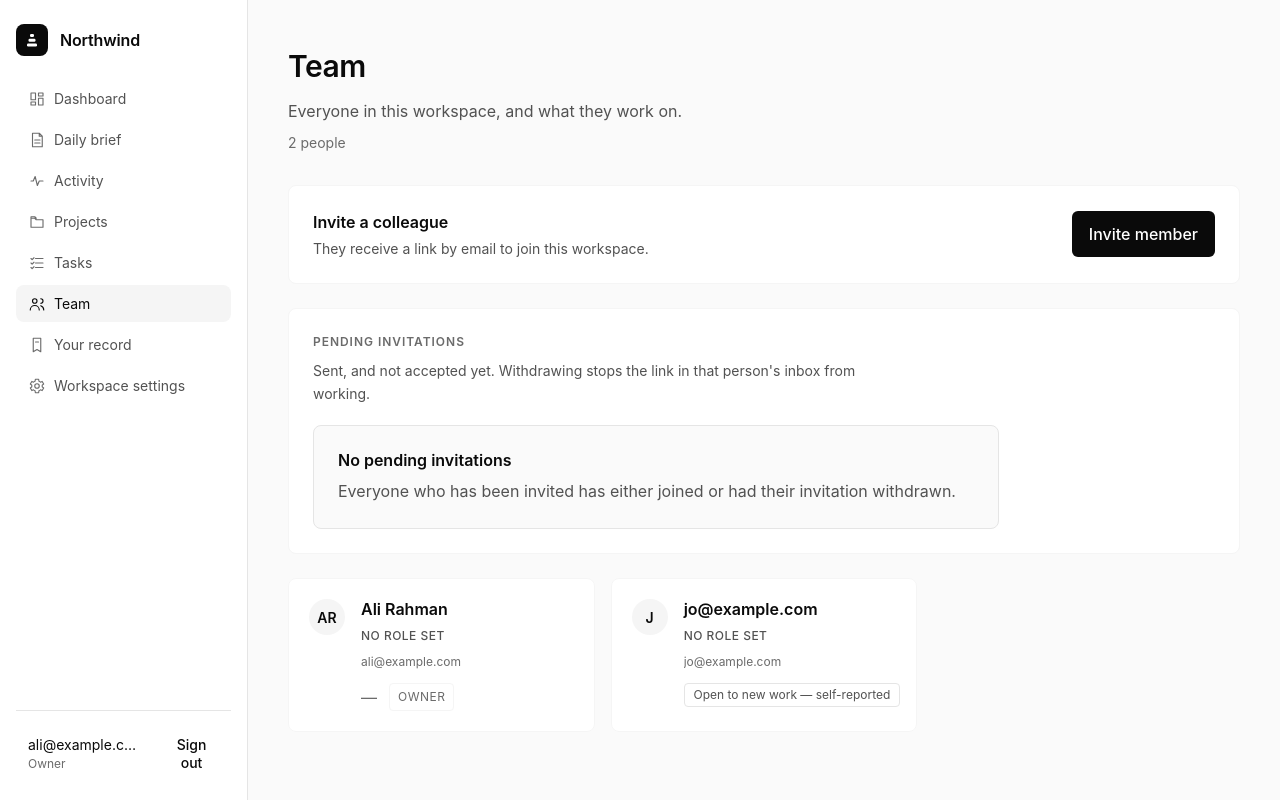
Test case: inviting a colleague › offers the invite panel to an owner and sends to the address given
Expected: the heading "Ali Rahman" is shown, [361,600,448,620]
Click the button "Invite member".
click(1143, 234)  # box [1072,211,1215,257]
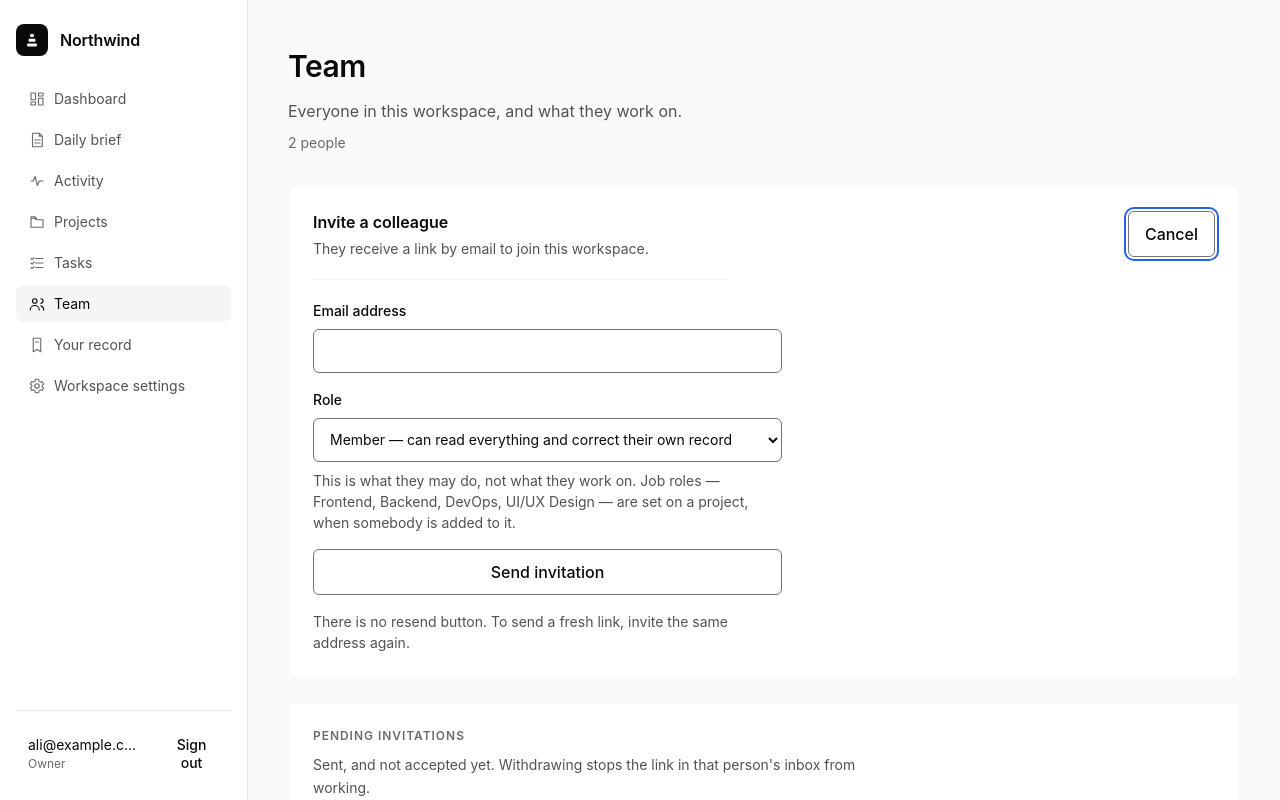
Type "new@example.com" into the field labelled "Email address".
click(548, 351); type("new@example.com")  # box [313,329,782,373]
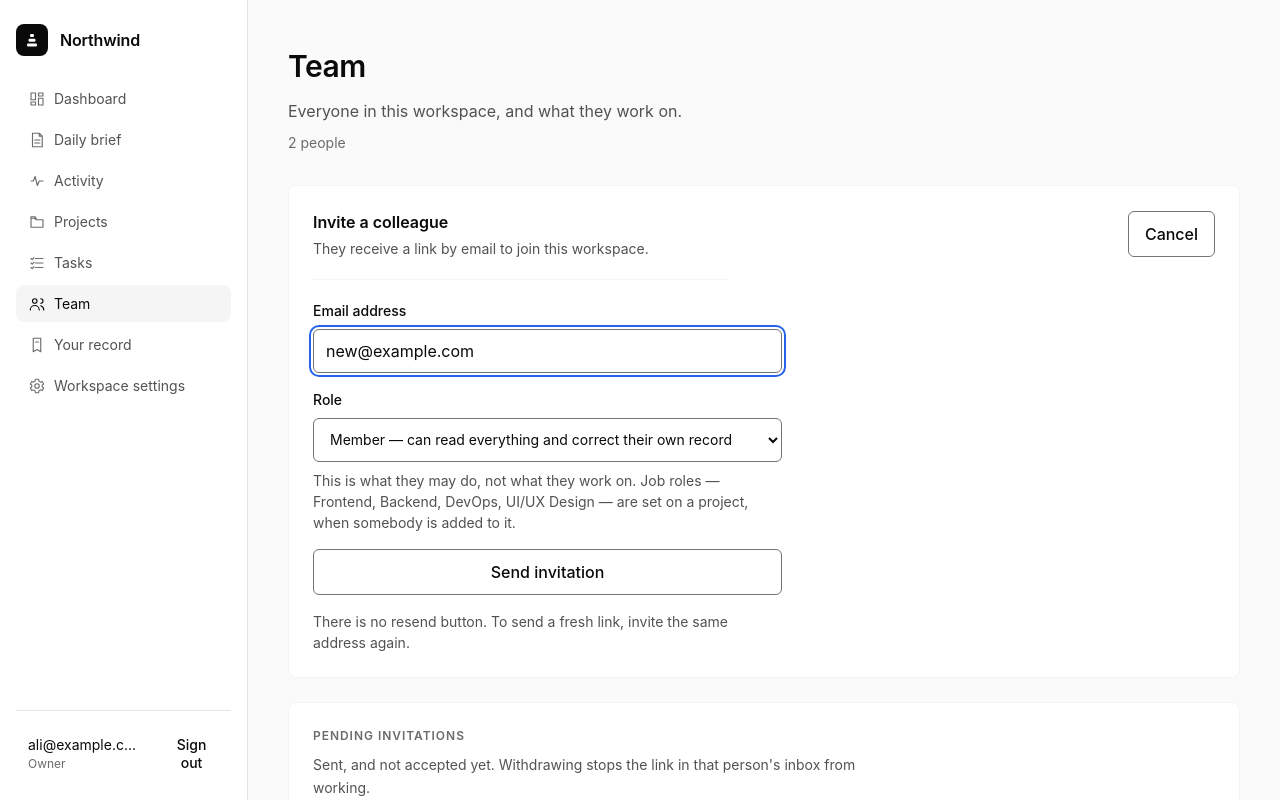
Click the button "Send invitation".
click(548, 572)  # box [313,549,782,595]
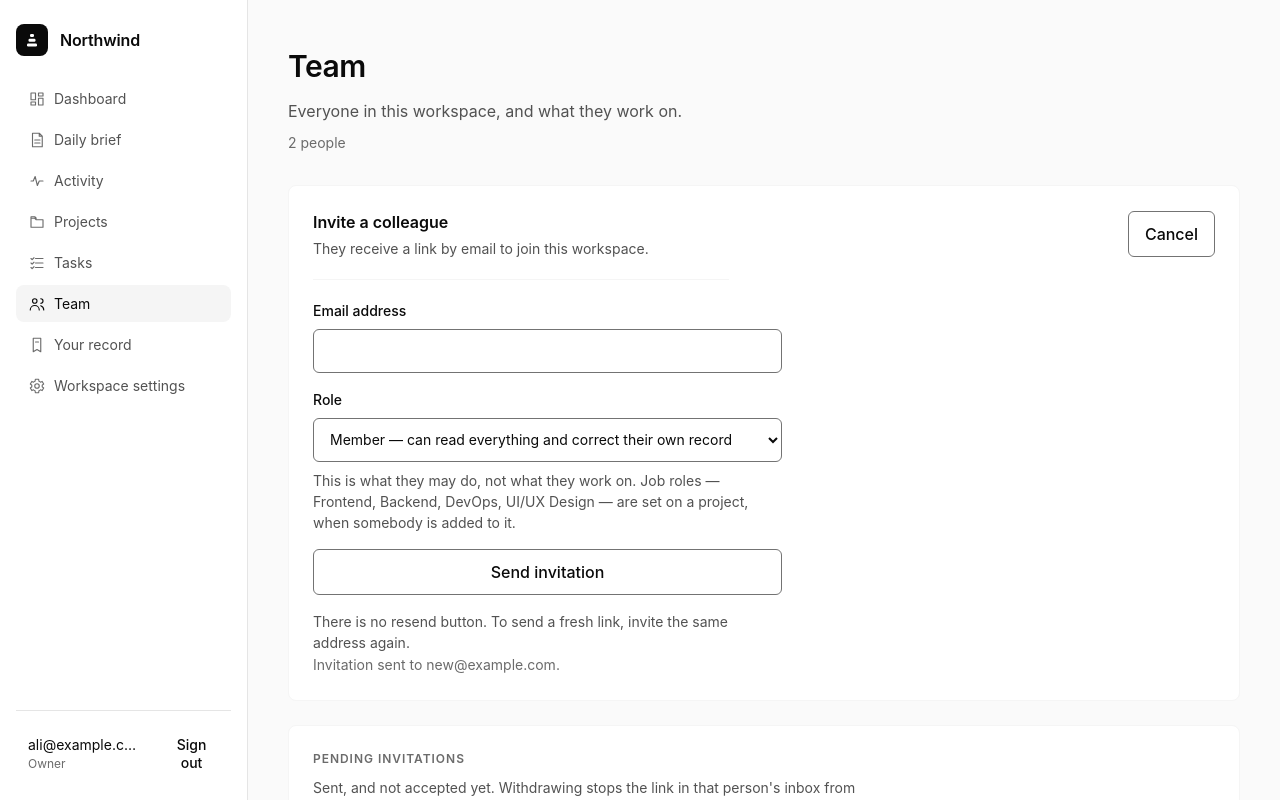
Expected: the text "Invitation sent to new@example.com." is shown, [313,656,560,673]
